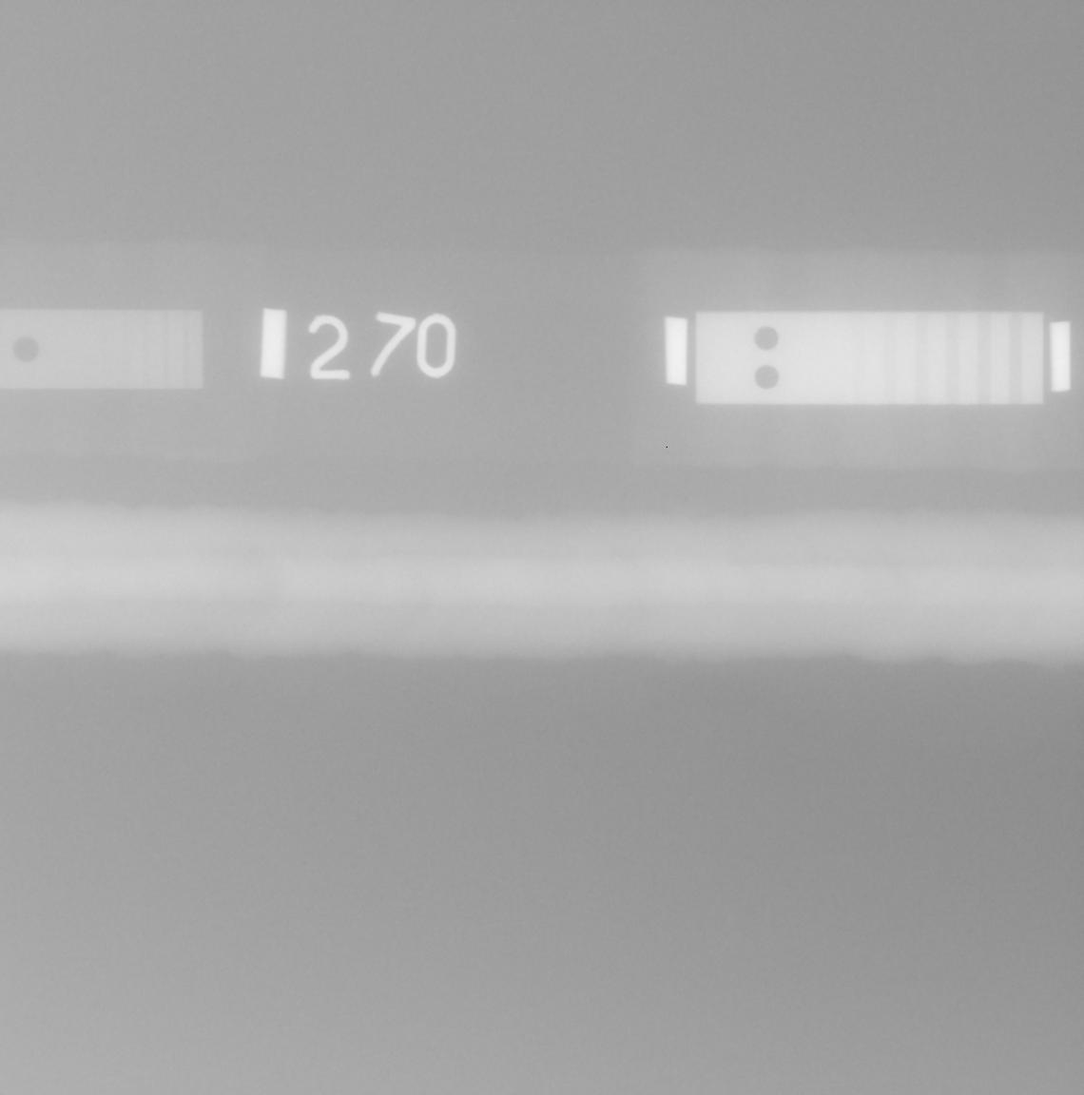Reference Standard 2: (695, 312, 1043, 403)
